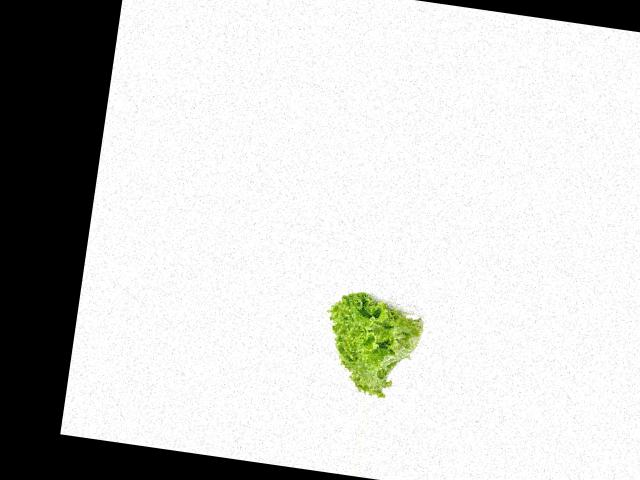lettuce: (310, 287, 433, 406)
